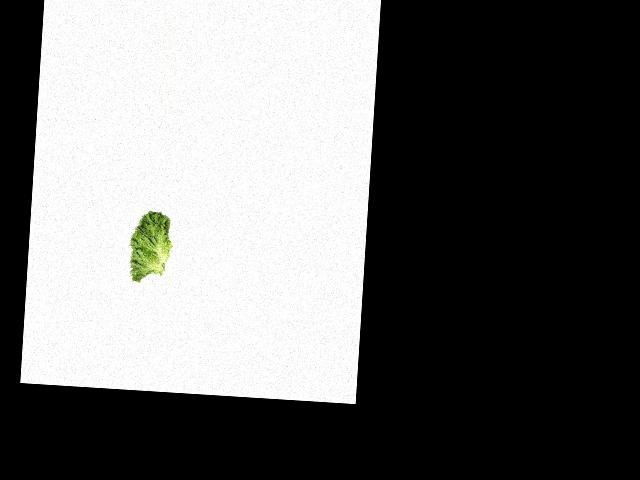lettuce: (122, 208, 177, 284)
